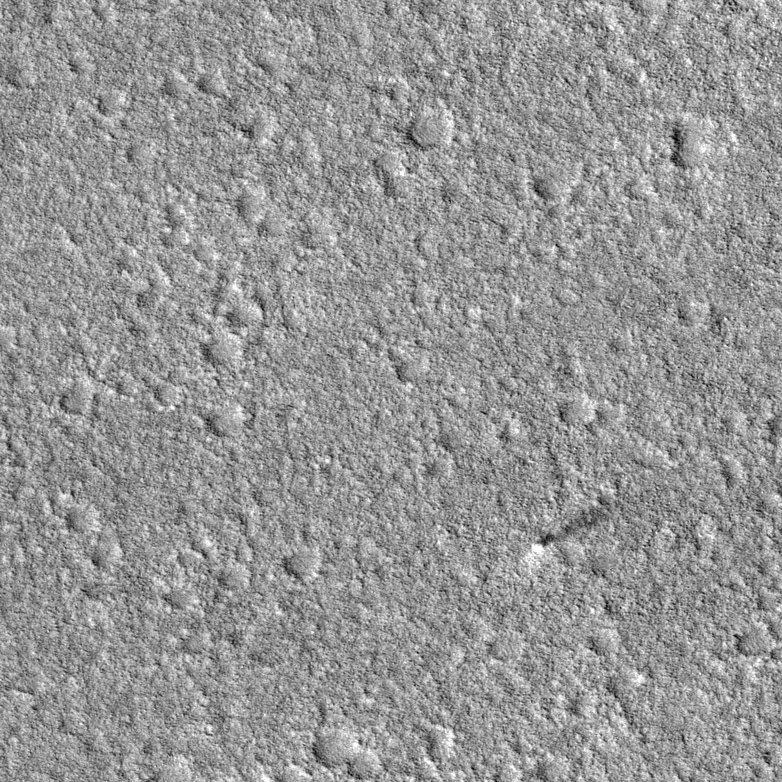dust_devil: (530, 495, 616, 557)
